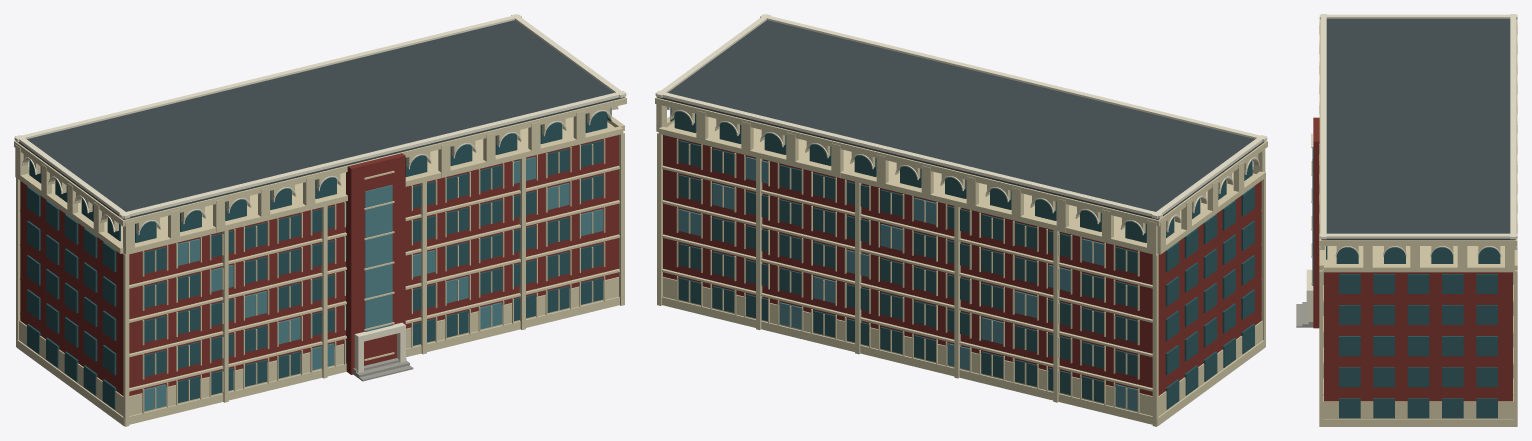
3 views of the same model, side by side, from view 1: azimuth 30°, elevation 25°; view 2: azimuth 150°, elevation 25°; view 3: azimuth 270°, elevation 25° (orthographic). The views are drawn at different scales.
Visible parts, largest first — view 1: MainBlock_Roof, MainBlock_Structure, MainBlock_WindowGlass, MainBlock_WindowFrames, MainBlock_SideWindows, MainBlock_RoofCoping, MainBlock_CentralBrickPier, MainBlock_Pilasters, MainBlock_FloorBands, MainBlock_Plinth, MainBlock_AtticPiers, MainBlock_AtticRecess (+9 smaller); view 2: MainBlock_Roof, MainBlock_Structure, MainBlock_WindowGlass, MainBlock_WindowFrames, MainBlock_SideWindows, MainBlock_FloorBands, MainBlock_RoofCoping, MainBlock_Pilasters, MainBlock_AtticPiers, MainBlock_Plinth, MainBlock_AtticSills, MainBlock_GroundStonework (+5 smaller); view 3: MainBlock_Roof, MainBlock_Structure, MainBlock_SideWindows, MainBlock_RoofCoping, MainBlock_GroundStonework, MainBlock_Cornice, MainBlock_Plinth, MainBlock_Pilasters, MainBlock_AtticFloor, MainBlock_AtticPiers, MainBlock_CentralBrickPier, MainBlock_AtticSills (+5 smaller).
Boxes of the visible parts, x1,y1,x2,y2 form: MainBlock_Roof: [18, 20, 624, 219]; MainBlock_Structure: [20, 135, 618, 395]; MainBlock_WindowGlass: [144, 140, 603, 411]; MainBlock_WindowFrames: [142, 138, 605, 413]; MainBlock_SideWindows: [27, 186, 116, 409]; MainBlock_RoofCoping: [14, 14, 626, 218]; MainBlock_CentralBrickPier: [346, 153, 405, 374]; MainBlock_Pilasters: [16, 132, 624, 426]; MainBlock_FloorBands: [20, 165, 619, 391]; MainBlock_Plinth: [16, 297, 619, 425]; MainBlock_AtticPiers: [15, 110, 585, 254]; MainBlock_AtticRecess: [29, 107, 611, 242]; MainBlock_Roof: [657, 20, 1263, 219]; MainBlock_Structure: [663, 135, 1261, 395]; MainBlock_WindowGlass: [678, 140, 1137, 411]; MainBlock_WindowFrames: [676, 138, 1139, 413]; MainBlock_SideWindows: [1165, 186, 1254, 409]; MainBlock_FloorBands: [662, 165, 1261, 391]; MainBlock_RoofCoping: [655, 14, 1267, 218]; MainBlock_Pilasters: [657, 132, 1265, 426]; MainBlock_AtticPiers: [656, 104, 1265, 254]; MainBlock_Plinth: [662, 297, 1265, 425]; MainBlock_AtticSills: [659, 116, 1265, 252]; MainBlock_GroundStonework: [663, 277, 1262, 416]; MainBlock_Roof: [1321, 18, 1515, 240]; MainBlock_Structure: [1324, 272, 1512, 401]; MainBlock_SideWindows: [1339, 274, 1497, 418]; MainBlock_RoofCoping: [1319, 14, 1517, 239]; MainBlock_GroundStonework: [1323, 272, 1513, 419]; MainBlock_Cornice: [1319, 19, 1517, 245]; MainBlock_Plinth: [1321, 419, 1515, 426]; MainBlock_Pilasters: [1319, 270, 1517, 426]; MainBlock_AtticFloor: [1322, 246, 1504, 272]; MainBlock_AtticPiers: [1319, 21, 1517, 272]; MainBlock_CentralBrickPier: [1313, 117, 1319, 328]; MainBlock_AtticSills: [1319, 250, 1517, 272].
Bounding box in the file's own units: 59.98 × 23.94 × 25.18.
